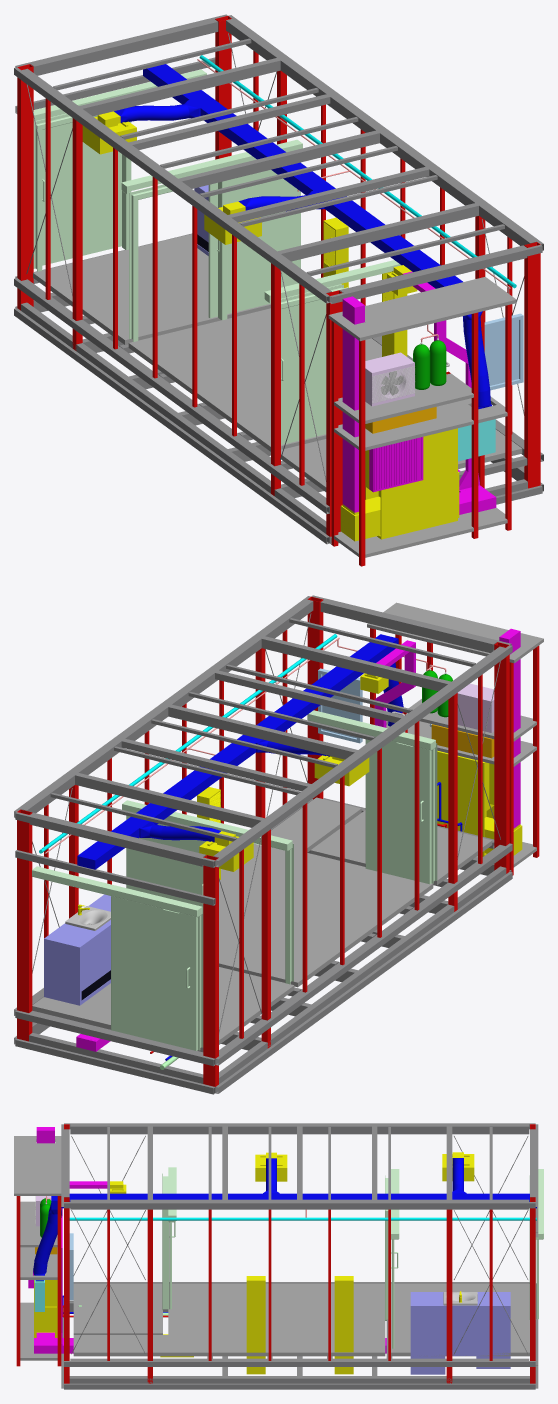
File: 음압병실 구조-설비.glb
The picture shows the model from 3 angles, top to bottom: view 1: azimuth 30°, elevation 25°; view 2: azimuth 150°, elevation 25°; view 3: azimuth 270°, elevation 25°; orthographic projection. The views are drawn at different scales.
Bounding box in the file's own units: 0.17 × 0.185 × 0.4762.
